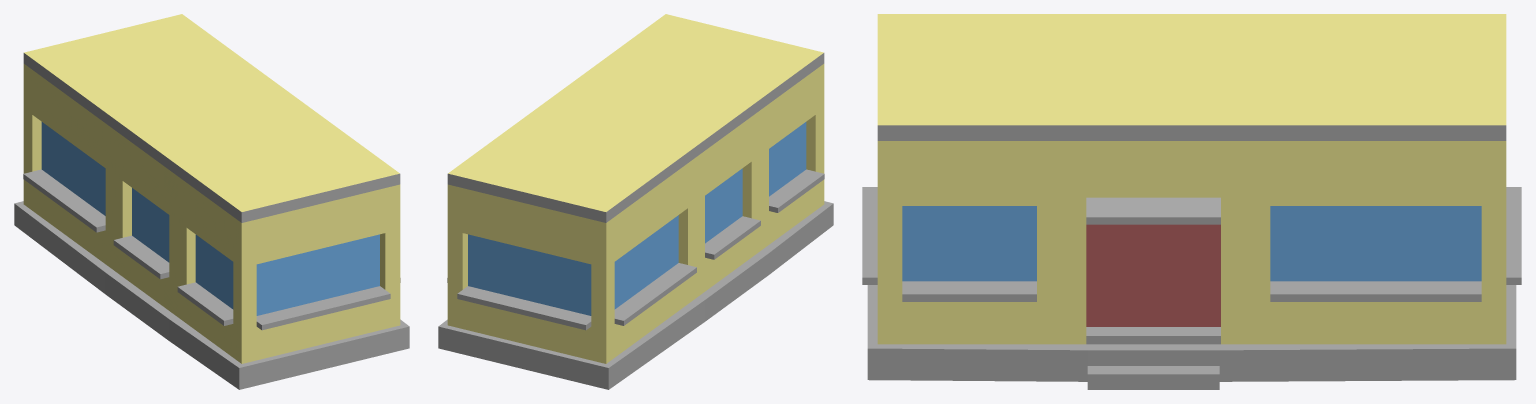
File: building_1x2_2_g.glb
The picture shows the model from 3 angles, left to right: view 1: azimuth 30°, elevation 25°; view 2: azimuth 150°, elevation 25°; view 3: azimuth 270°, elevation 25°; orthographic projection. The views are drawn at different scales.
Visible parts, largest first — view 1: Cube; view 2: Cube; view 3: Cube.
Boxes of the visible parts, box(x1,y1,x2,y2) form: Cube: box(14, 14, 409, 389); Cube: box(438, 14, 833, 389); Cube: box(862, 14, 1521, 389).
Bounding box in the file's own units: 1.83 × 1.6 × 3.82.
